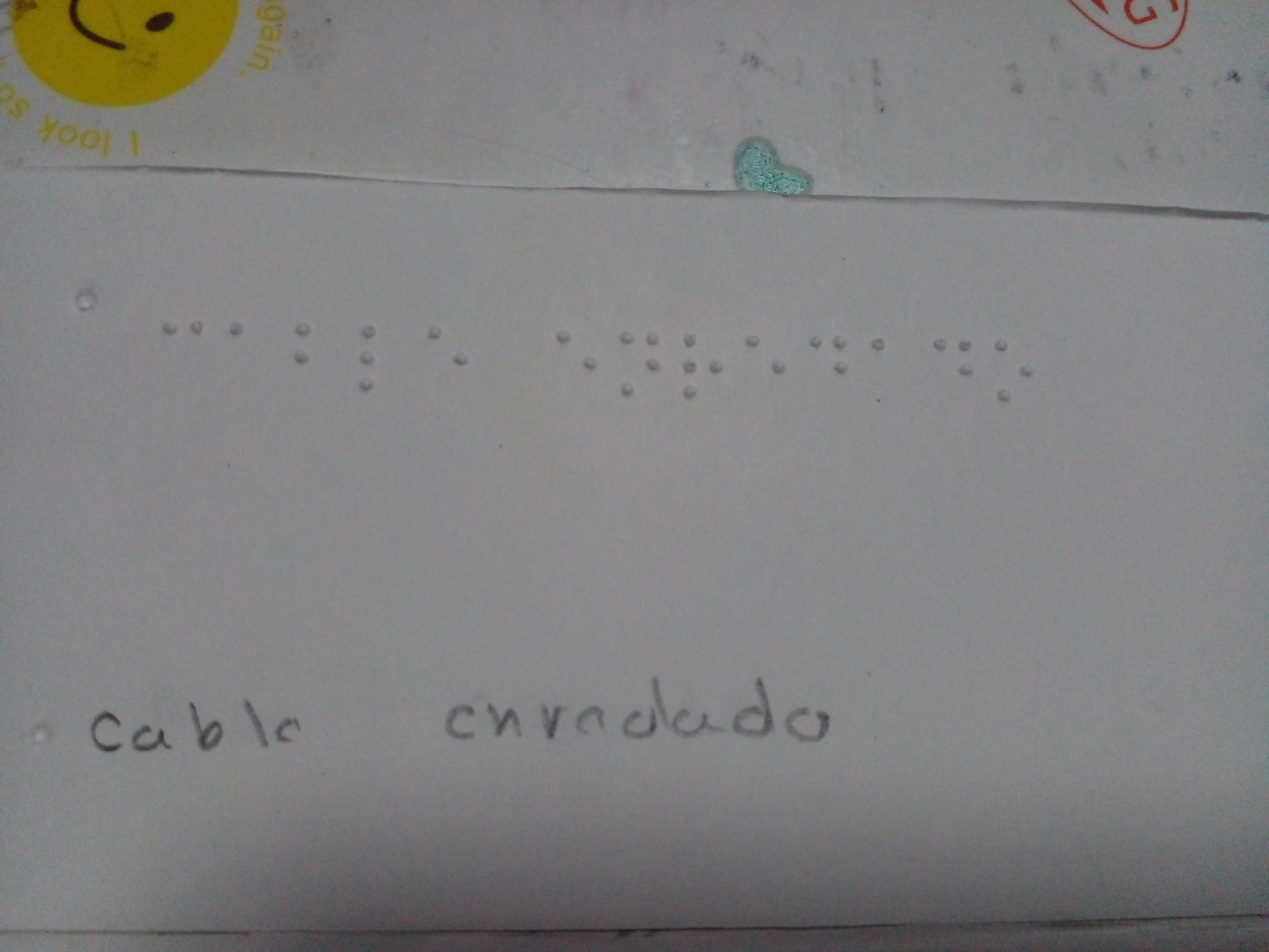a: (863, 327, 900, 370), (222, 310, 252, 361)
b: (277, 307, 324, 381)
c: (160, 310, 214, 367)
d: (802, 325, 861, 394), (922, 328, 984, 387)
e: (393, 316, 491, 386), (742, 325, 790, 395), (550, 325, 604, 387)
l: (350, 316, 386, 412)
n: (615, 322, 661, 406)
o: (987, 330, 1036, 404)
r: (671, 328, 727, 409)
